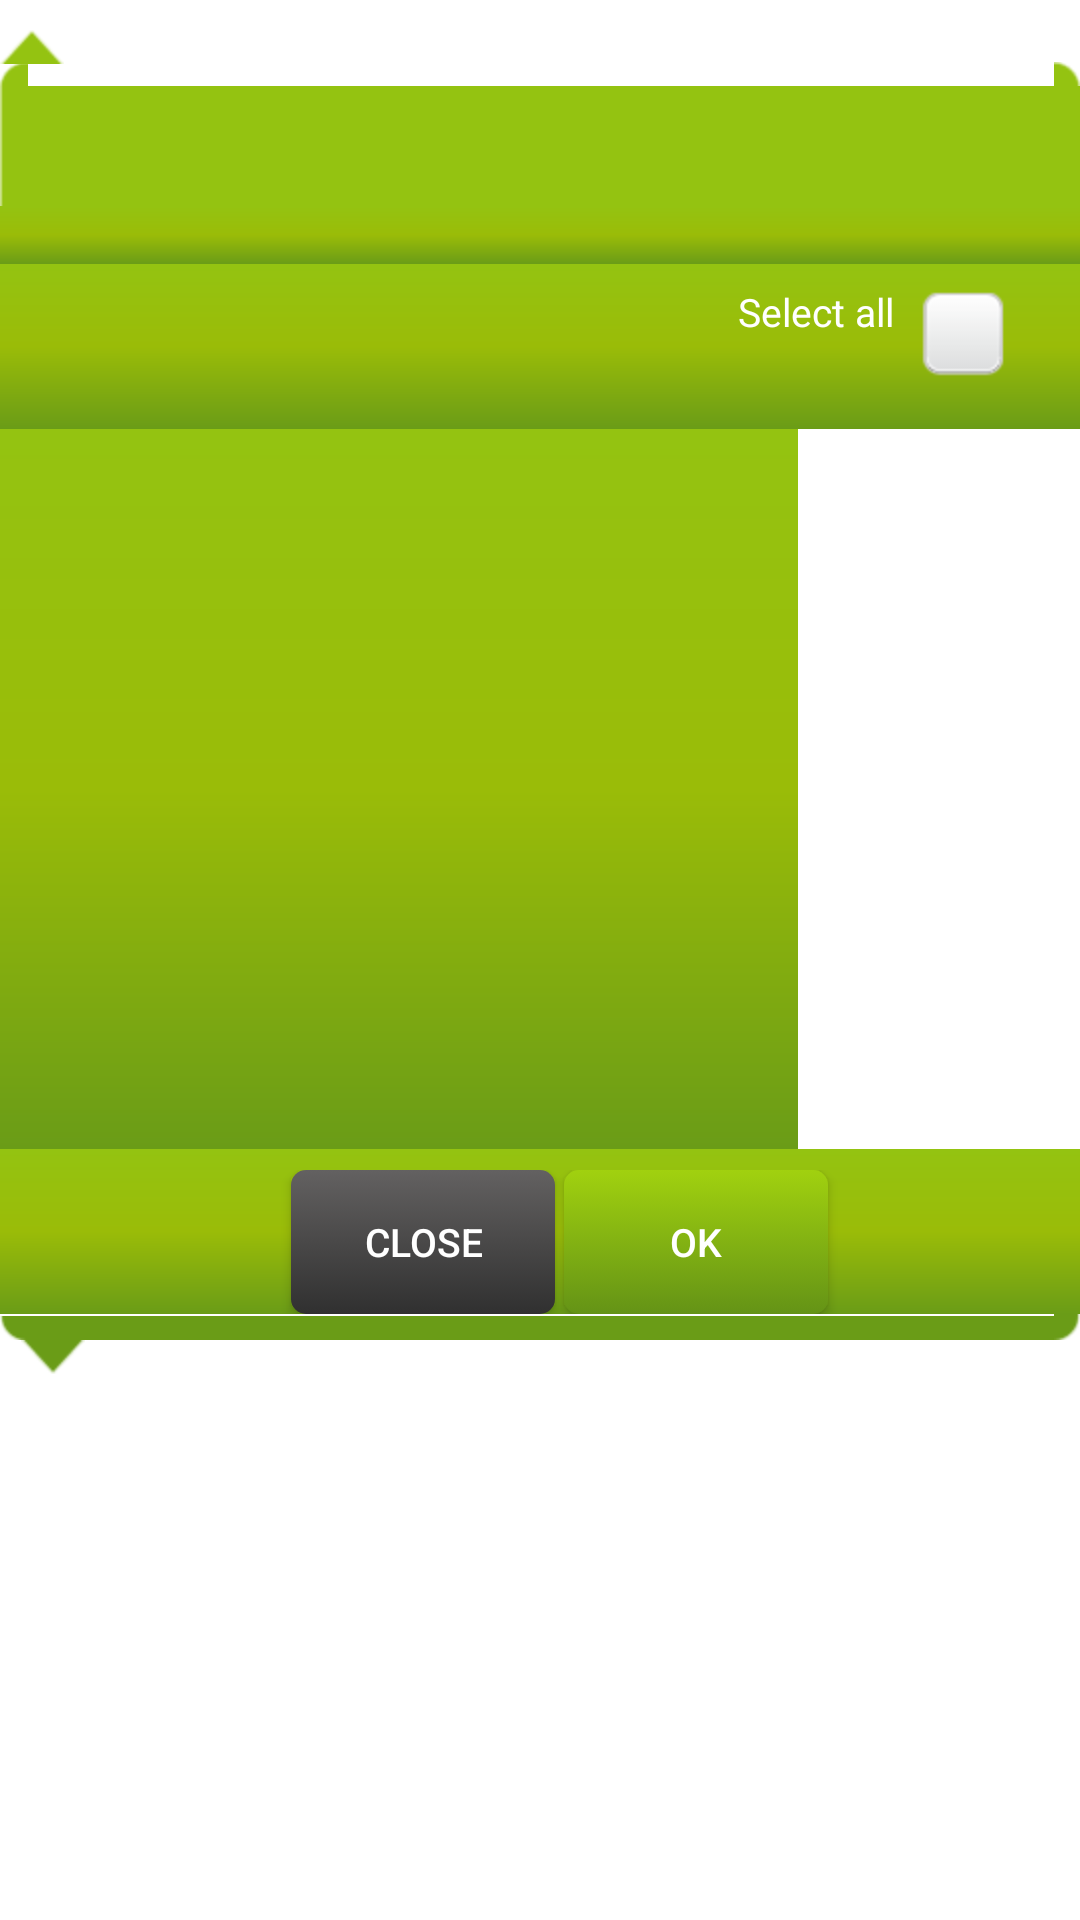

Icon click points for this 1080×1920 phone screenshot, format (x=x, y=y):
custom checkbox: (x=963, y=334)
quickcontact arrow down: (x=53, y=1356)
quickcontact arrow up: (x=32, y=47)
